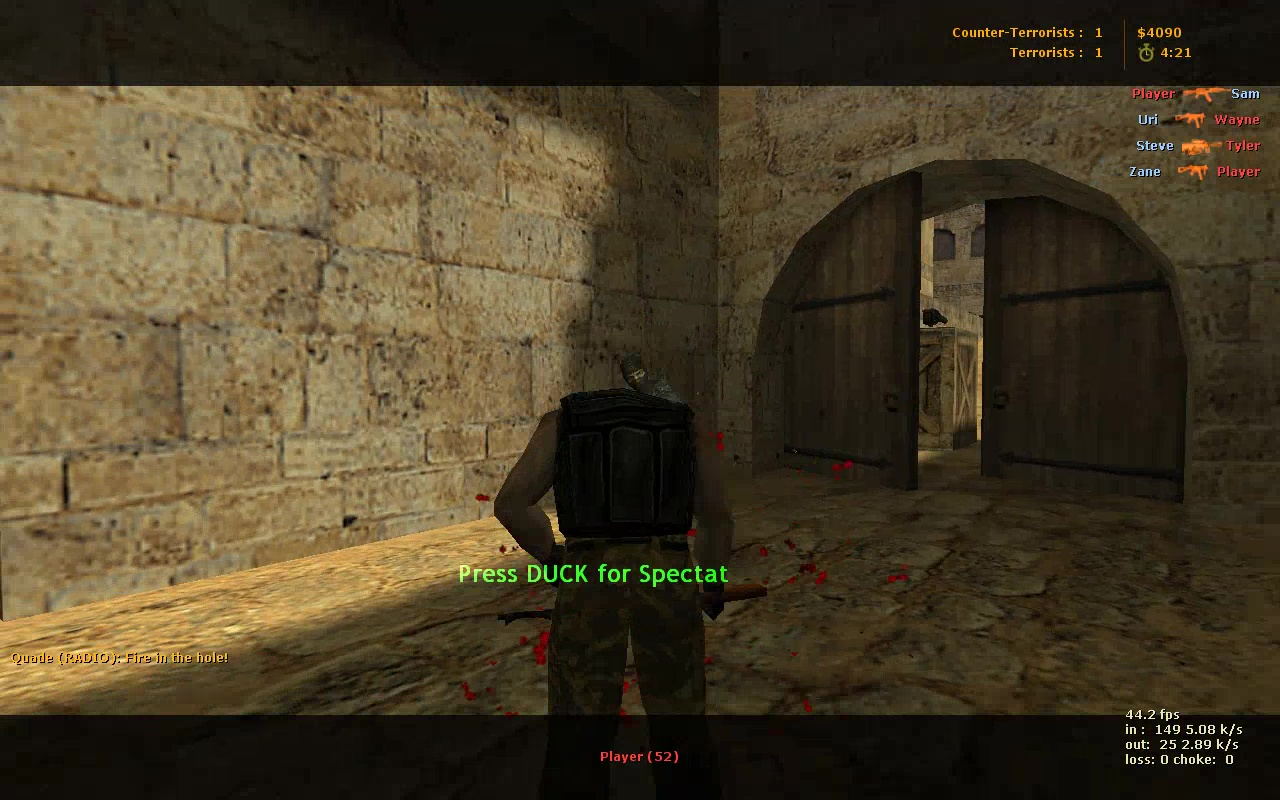terr1: (491, 385, 739, 800)
